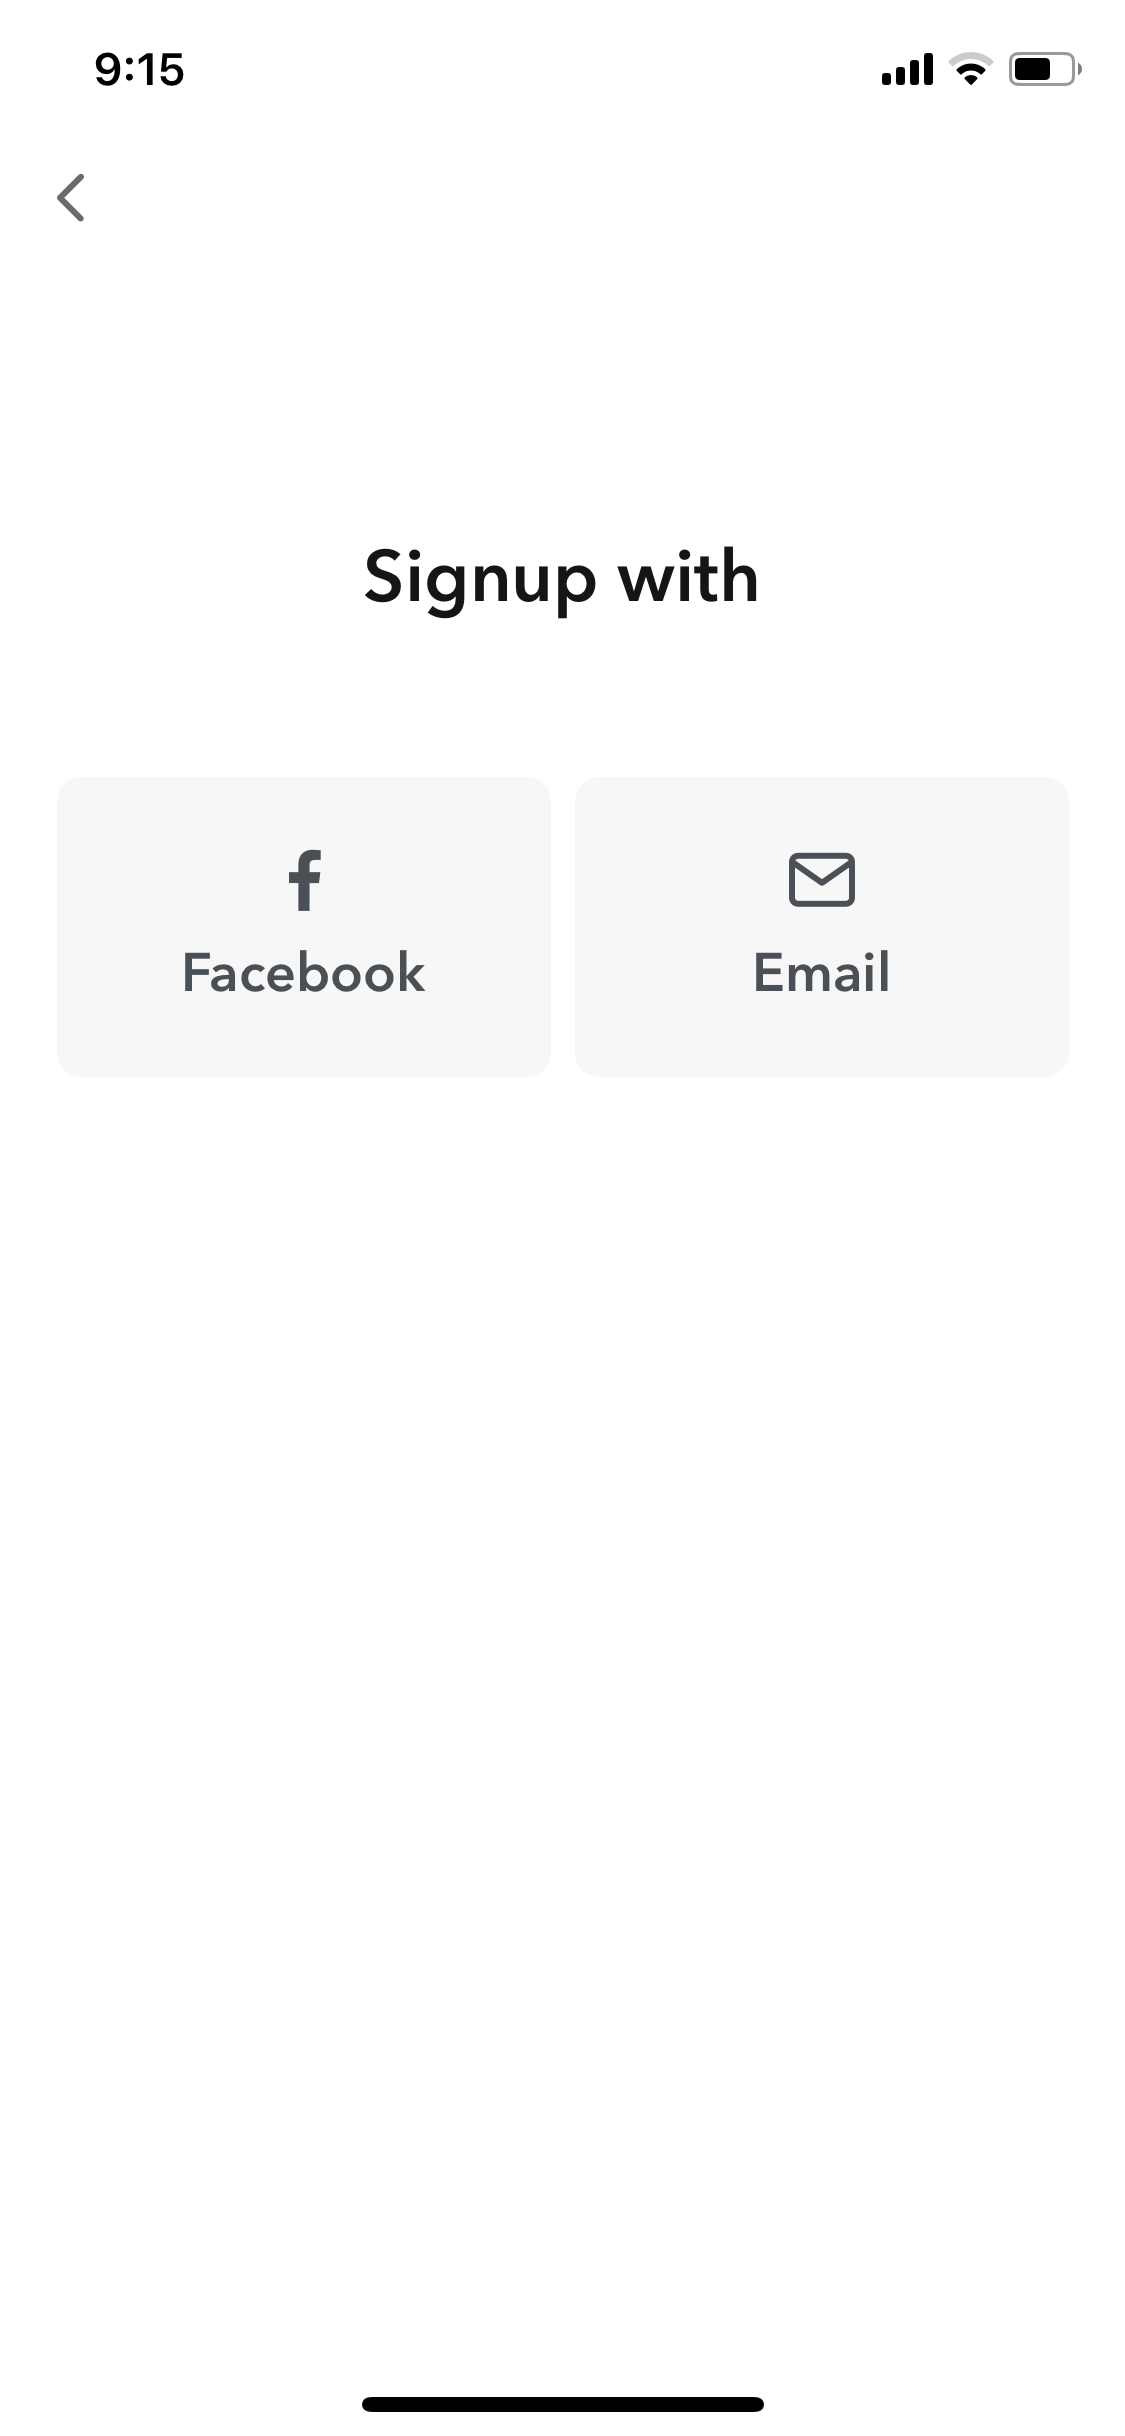Buttons: (51, 750, 567, 1087), (573, 750, 1088, 1087), (16, 117, 151, 263)
